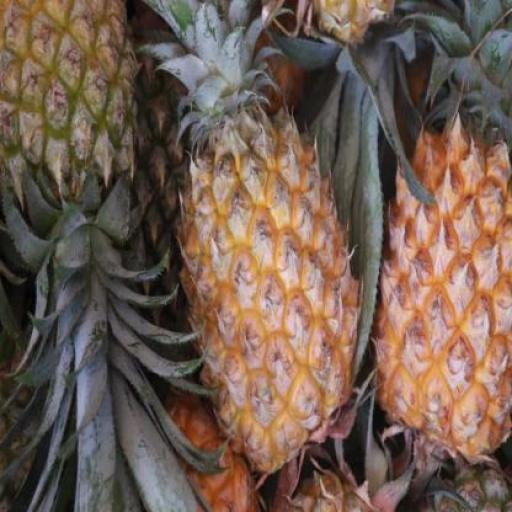------------------------------: (0, 0, 138, 214)
Pineapple - v8 v1: (172, 110, 366, 471), (374, 111, 511, 463)
